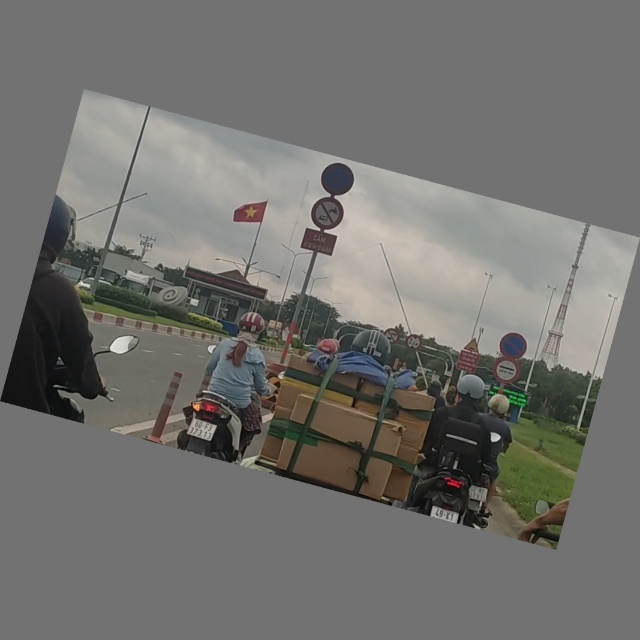P.107: (382, 328, 400, 346)
P.111: (308, 195, 347, 233)
P.117*: (404, 333, 424, 353)
P.129: (490, 356, 522, 387)
P.130: (318, 160, 357, 199)
P.131a: (497, 331, 530, 363)
W.221b: (463, 336, 483, 356)
